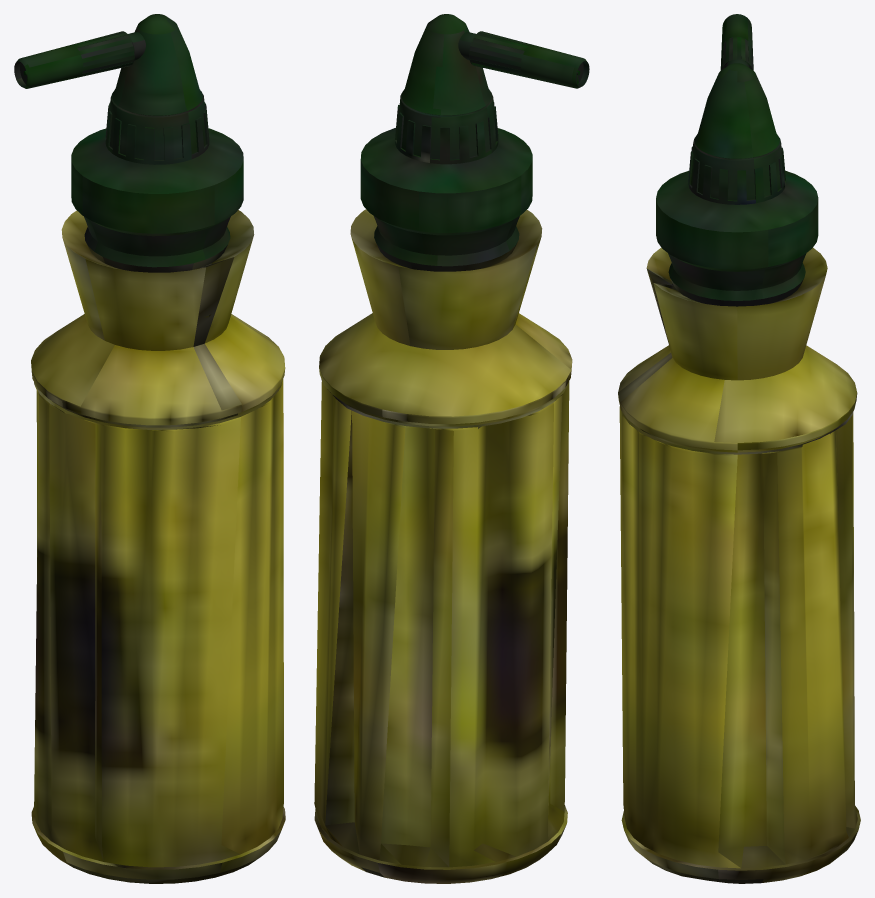
File: livestock disinfectant.fbx
3 renders of one model, left to right at view 1: azimuth 30°, elevation 25°; view 2: azimuth 150°, elevation 25°; view 3: azimuth 270°, elevation 25°, orthographic. The views are drawn at different scales.
Parts seen in each view (by area): view 1: Spray Bottle; view 2: Spray Bottle; view 3: Spray Bottle.
Boxes of the visible parts, left/top/right/bottom form: Spray Bottle: left=14, top=14, right=285, bottom=883; Spray Bottle: left=314, top=14, right=589, bottom=883; Spray Bottle: left=618, top=14, right=860, bottom=883.
Bounding box in the file's own units: 10.15 × 31.98 × 9.08.
